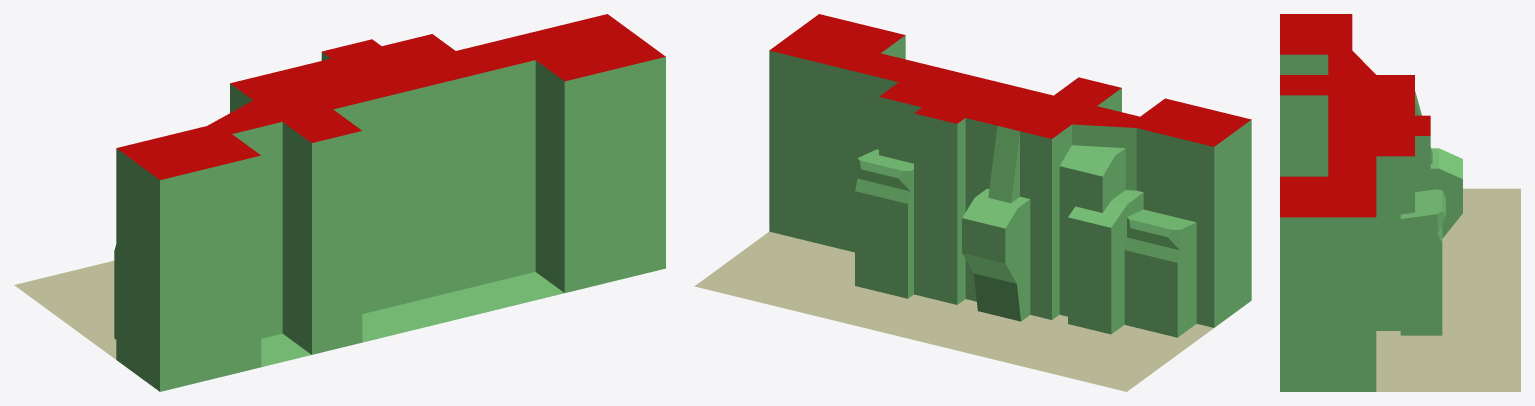
The model's file is x_oo_ground_54_wall1_rmstrd.fbx.
The picture shows the model from 3 angles, left to right: view 1: azimuth 30°, elevation 25°; view 2: azimuth 150°, elevation 25°; view 3: azimuth 270°, elevation 25°; orthographic projection. The views are drawn at different scales.
Visible parts, largest first — view 1: x_oo_ground_54_wall1_rmstrd1; view 2: x_oo_ground_54_wall1_rmstrd1; view 3: x_oo_ground_54_wall1_rmstrd1.
Boxes of the visible parts, <box> form: x_oo_ground_54_wall1_rmstrd1: <box>14,14,665,391</box>; x_oo_ground_54_wall1_rmstrd1: <box>694,14,1251,391</box>; x_oo_ground_54_wall1_rmstrd1: <box>1280,14,1520,391</box>.
Size of the model in its own units: 10 by 4 by 5.
